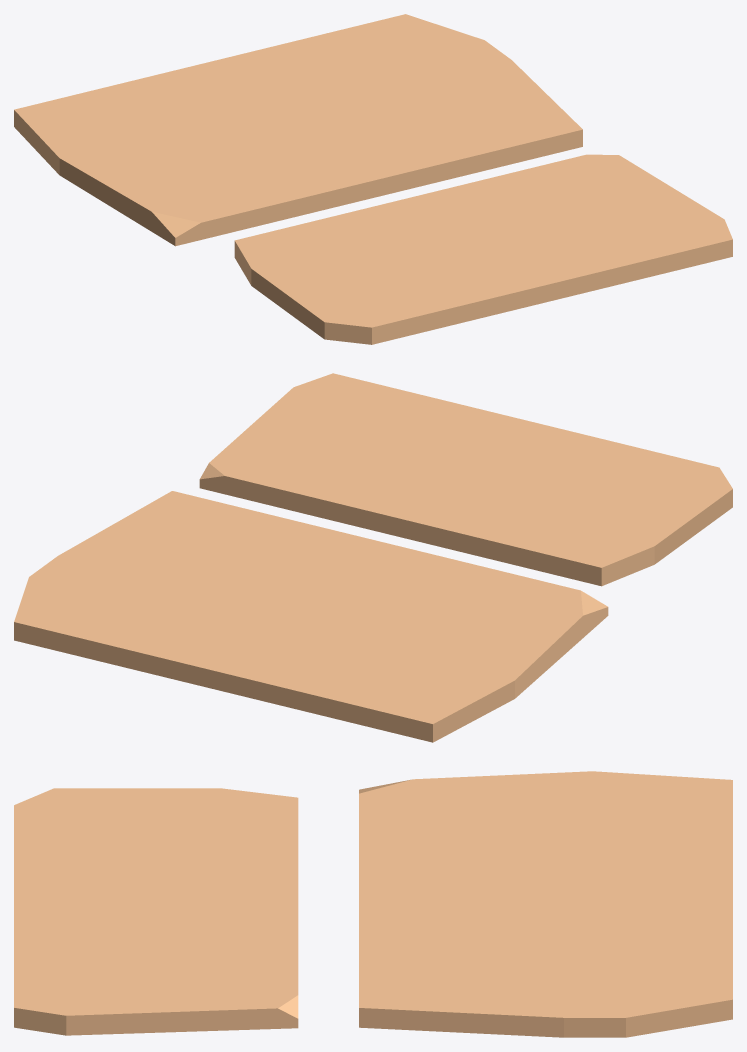
File: Ground.fbx
The picture shows the model from 3 angles, top to bottom: view 1: azimuth 30°, elevation 25°; view 2: azimuth 150°, elevation 25°; view 3: azimuth 270°, elevation 25°; orthographic projection. The views are drawn at different scales.
Parts seen in each view (by area): view 1: Ground; view 2: Ground; view 3: Ground.
Boxes of the visible parts, box(x1,y1,x2,y2) form: Ground: box(14, 14, 732, 344); Ground: box(14, 373, 732, 742); Ground: box(14, 771, 732, 1037).
Size of the model in its own units: 2390 by 89.73 by 2945.
